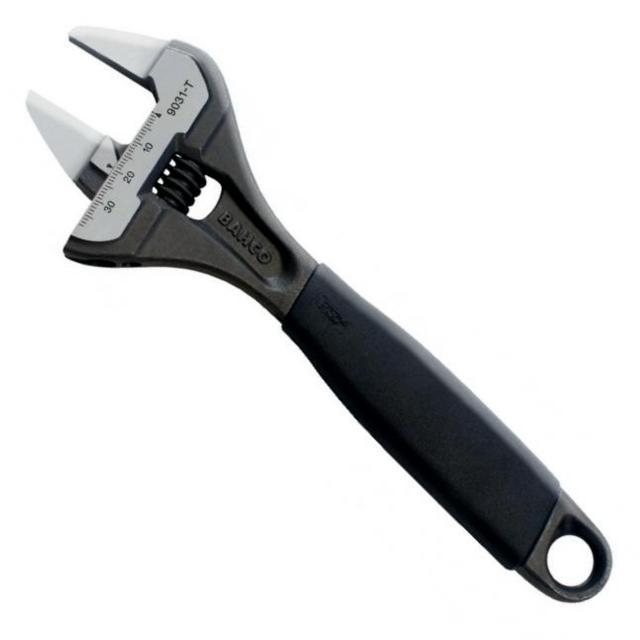wrench: (19, 22, 617, 607)
